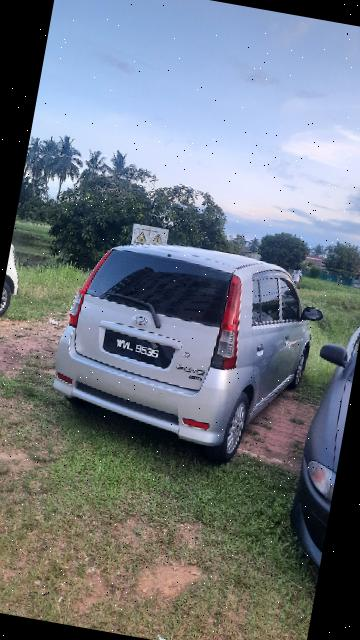License_Plate: (100, 330, 181, 374)
car: (42, 227, 335, 479)
